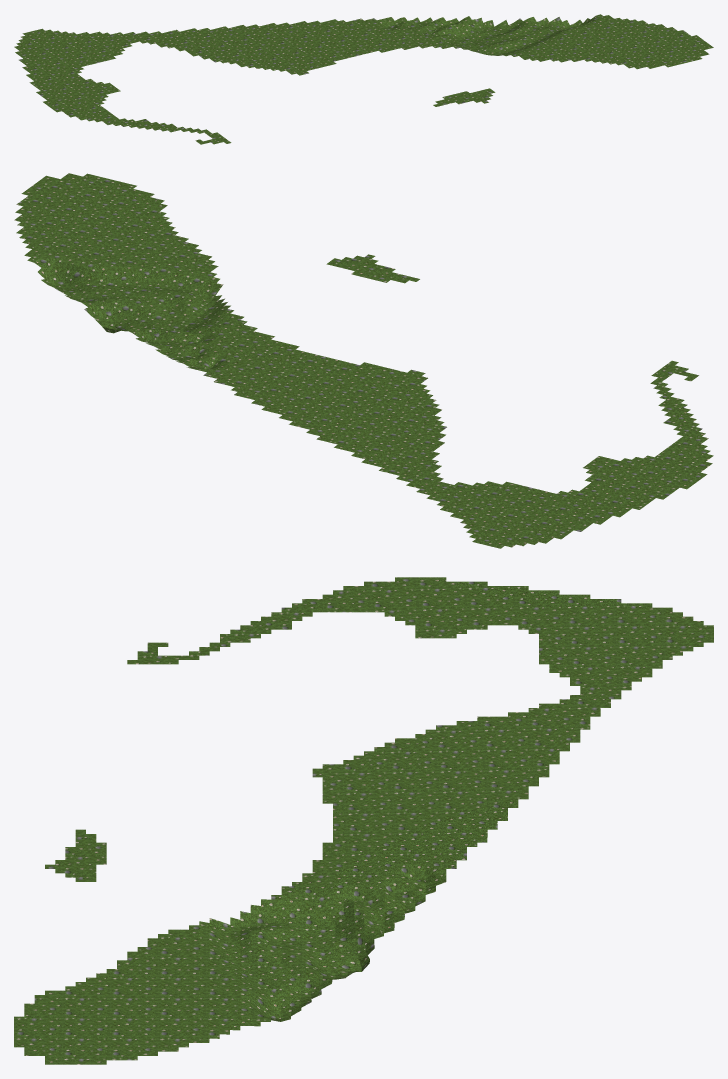
File: FLOWERS.obj
3 renders of one model, top to bottom at view 1: azimuth 30°, elevation 25°; view 2: azimuth 150°, elevation 25°; view 3: azimuth 270°, elevation 25°, orthographic. The views are drawn at different scales.
Visible parts, largest first — view 1: Flori; view 2: Flori; view 3: Flori.
Part boxes in pixels (bbox=[...]): Flori: bbox=[14, 14, 713, 144]; Flori: bbox=[14, 173, 713, 548]; Flori: bbox=[14, 577, 713, 1064].
Size of the model in its own units: 15.24 by 0.3144 by 9.25.
